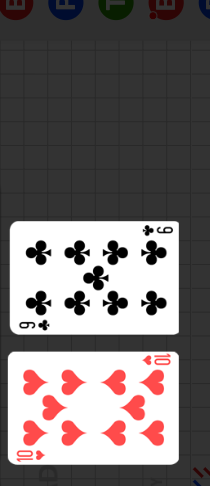10H: (140, 354, 172, 367)
9C: (140, 224, 175, 238)
